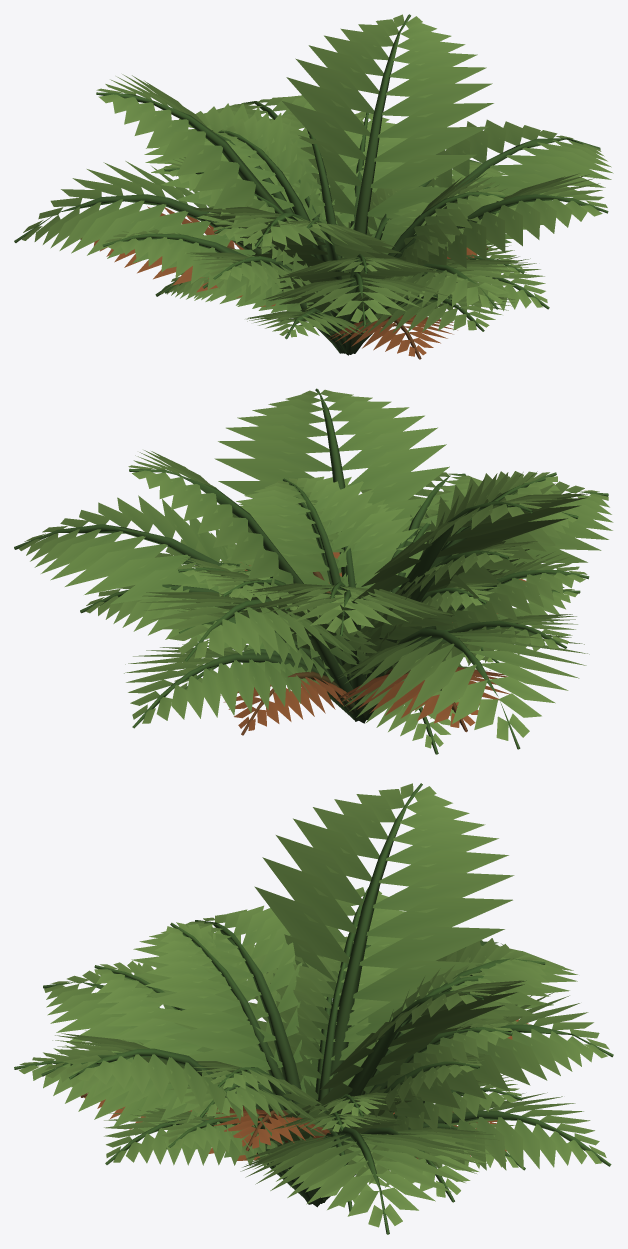
Rendered from fern.glb.
3 views of the same model, one above another, from view 1: azimuth 30°, elevation 25°; view 2: azimuth 150°, elevation 25°; view 3: azimuth 270°, elevation 25° (orthographic). The views are drawn at different scales.
Visible parts, largest first — view 1: fern1, fern0, fern2, fern3; view 2: fern1, fern2, fern0, fern3; view 3: fern1, fern2, fern3, fern0.
Part boxes in pixels (bbox=[...]): fern1: bbox=[14, 14, 613, 355]; fern0: bbox=[102, 112, 549, 354]; fern2: bbox=[163, 112, 525, 351]; fern3: bbox=[80, 111, 488, 359]; fern1: bbox=[14, 388, 613, 749]; fern2: bbox=[80, 471, 580, 728]; fern0: bbox=[195, 476, 589, 754]; fern3: bbox=[171, 472, 546, 735]; fern1: bbox=[41, 783, 613, 1234]; fern2: bbox=[94, 887, 611, 1212]; fern3: bbox=[80, 922, 530, 1170]; fern0: bbox=[14, 934, 512, 1197].
Bounding box in the file's own units: 1.53 × 0.7652 × 1.34.
